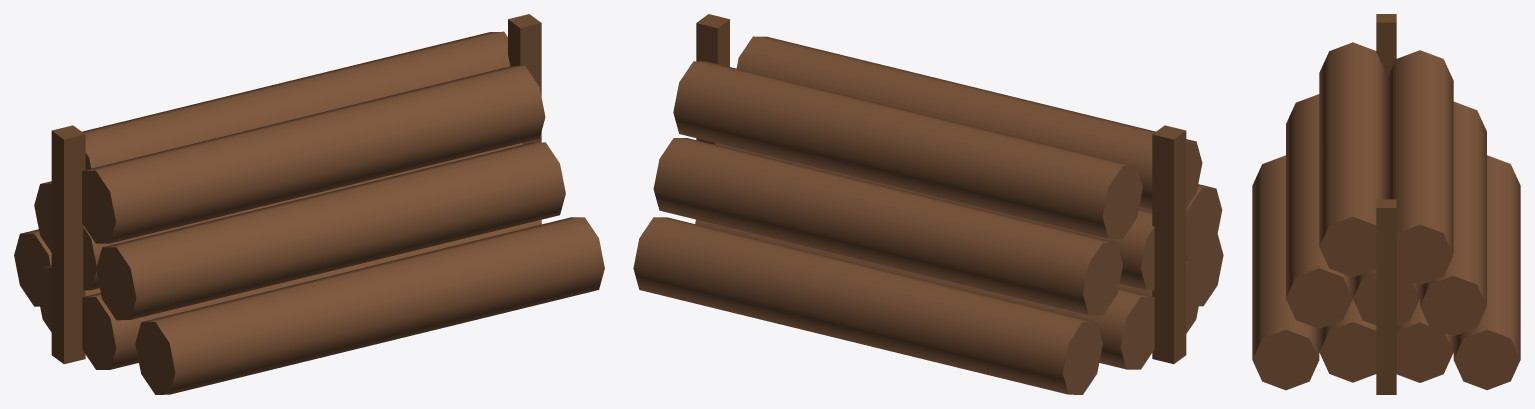
File: prop_woodpile.glb
3 renders of one model, left to right at view 1: azimuth 30°, elevation 25°; view 2: azimuth 150°, elevation 25°; view 3: azimuth 270°, elevation 25°, orthographic. The views are drawn at different scales.
Visible parts, largest first — view 1: Prop_Woodpile; view 2: Prop_Woodpile; view 3: Prop_Woodpile.
Boxes of the visible parts, bbox=[...] form: Prop_Woodpile: bbox=[14, 14, 604, 394]; Prop_Woodpile: bbox=[633, 14, 1223, 394]; Prop_Woodpile: bbox=[1252, 14, 1520, 394].
Bounding box in the file's own units: 1.78 × 0.8 × 1.04.
